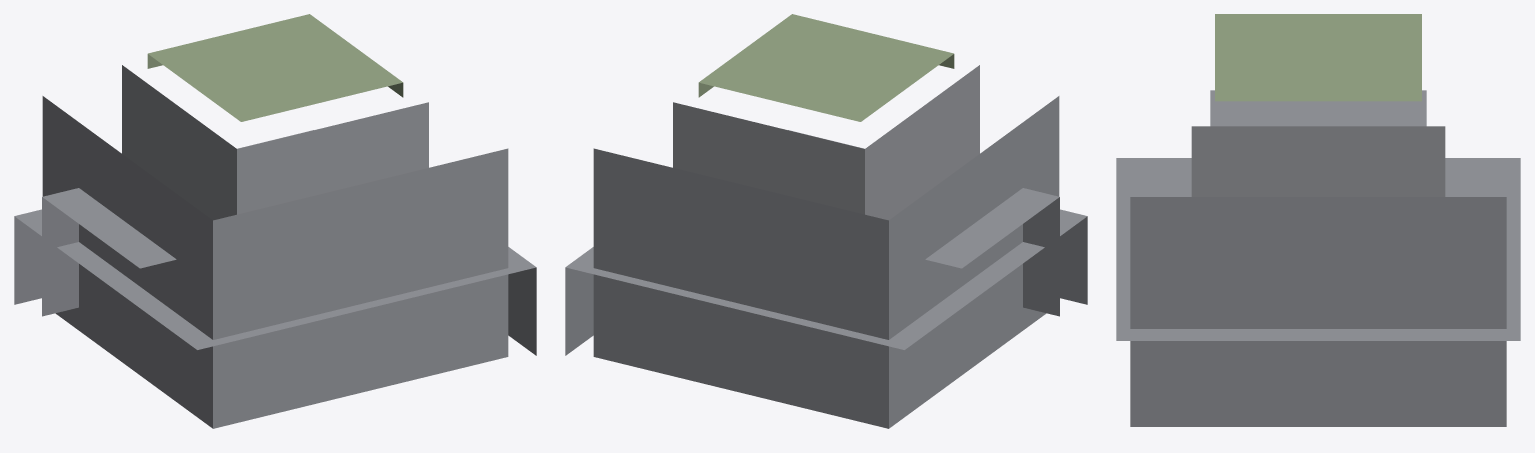
Rendered from rock.glb.
The picture shows the model from 3 angles, left to right: view 1: azimuth 30°, elevation 25°; view 2: azimuth 150°, elevation 25°; view 3: azimuth 270°, elevation 25°; orthographic projection. The views are drawn at different scales.
Parts seen in each view (by area): view 1: Rock_Basalt, Rock_Basalt_Light, Rock_Basalt_Dark, Moss_Highland; view 2: Rock_Basalt, Rock_Basalt_Light, Rock_Basalt_Dark, Moss_Highland; view 3: Rock_Basalt, Rock_Basalt_Dark, Moss_Highland, Rock_Basalt_Light.
Part boxes in pixels (x1=…): Rock_Basalt: x1=42, y1=96, x2=508, y2=428; Rock_Basalt_Light: x1=122, y1=65, x2=428, y2=220; Rock_Basalt_Dark: x1=14, y1=188, x2=536, y2=355; Moss_Highland: x1=147, y1=14, x2=403, y2=121; Rock_Basalt: x1=593, y1=96, x2=1059, y2=428; Rock_Basalt_Light: x1=673, y1=65, x2=979, y2=220; Rock_Basalt_Dark: x1=565, y1=188, x2=1087, y2=355; Moss_Highland: x1=698, y1=14, x2=954, y2=121; Rock_Basalt: x1=1130, y1=197, x2=1506, y2=426; Rock_Basalt_Dark: x1=1116, y1=90, x2=1520, y2=340; Moss_Highland: x1=1215, y1=14, x2=1421, y2=101; Rock_Basalt_Light: x1=1191, y1=126, x2=1445, y2=196.
Bounding box in the file's own units: 0.96 × 0.68 × 0.86.
